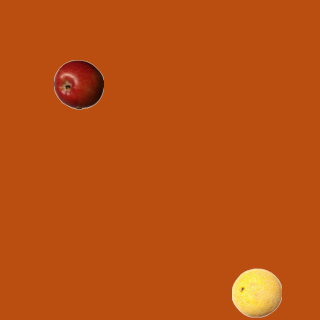Apple Braeburn: (53, 59, 103, 109)
Cantaloupe 1: (231, 267, 281, 317)
